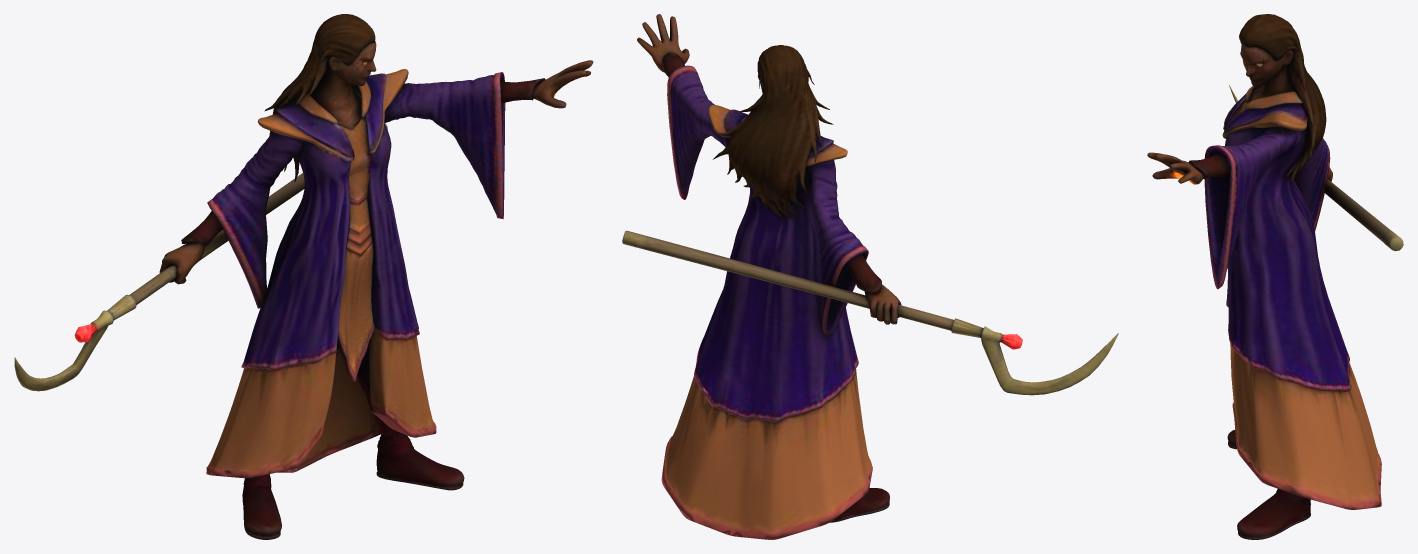
Rendered from MZ4250 - Human Female Evocation Wizard_3.glb.
The picture shows the model from 3 angles, left to right: view 1: azimuth 30°, elevation 25°; view 2: azimuth 150°, elevation 25°; view 3: azimuth 270°, elevation 25°; orthographic projection. The views are drawn at different scales.
Visible parts, largest first — view 1: Body.001; view 2: Body.001; view 3: Body.001.
Part boxes in pixels (x1=…): Body.001: x1=14, y1=14, x2=593, y2=539; Body.001: x1=622, y1=14, x2=1118, y2=539; Body.001: x1=1147, y1=14, x2=1403, y2=539.
Bounding box in the file's own units: 1.11 × 0.938 × 0.4577.
1 material, 1 textured.
